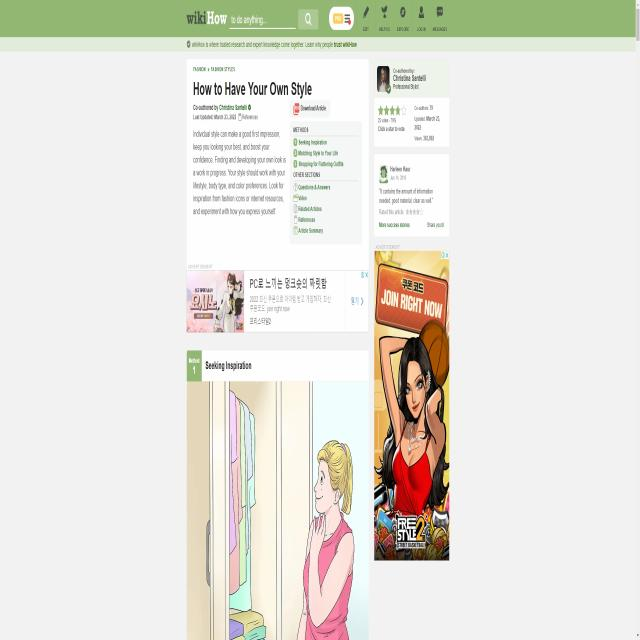menu-bar: (360, 2, 450, 35)
search: (229, 8, 321, 32)
side-panel: (373, 54, 451, 236)
